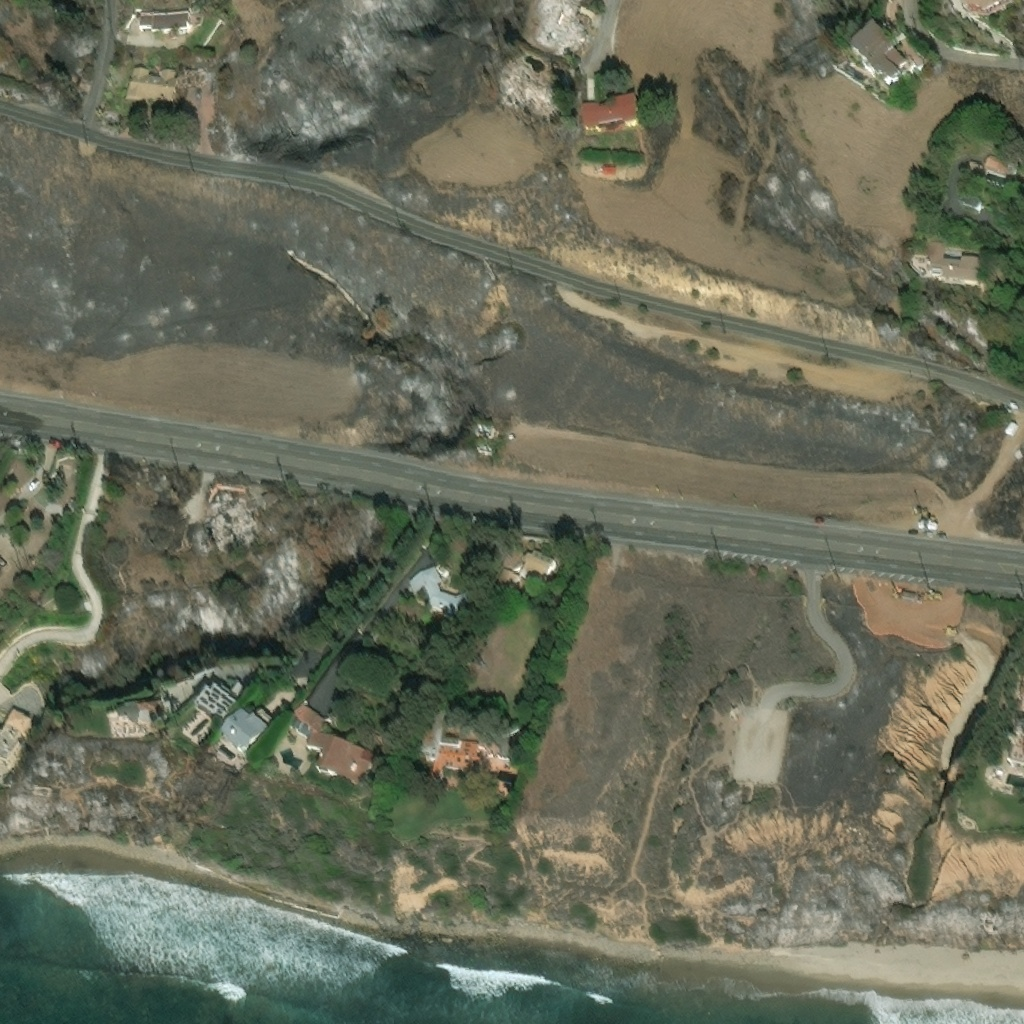0 no-damage: (293, 700, 375, 785), (303, 628, 382, 714), (852, 28, 925, 94), (399, 561, 472, 618), (909, 240, 985, 292), (496, 543, 557, 593), (123, 60, 179, 107), (218, 708, 272, 756), (427, 737, 481, 785), (193, 678, 245, 722), (583, 101, 641, 137), (105, 697, 166, 730), (0, 703, 30, 760), (135, 12, 203, 34), (960, 0, 1012, 19), (983, 155, 1017, 181), (965, 160, 983, 176), (1016, 675, 1023, 711), (603, 168, 616, 176)
3 destroyed: (501, 65, 561, 128), (196, 501, 257, 556), (535, 0, 585, 57), (182, 66, 213, 89)
